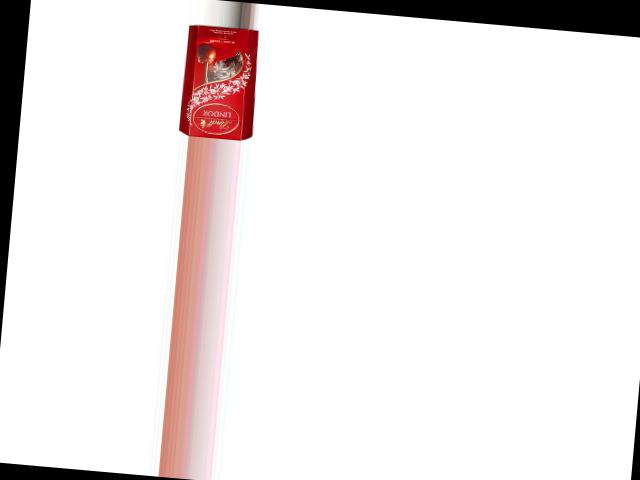chocolate: (173, 22, 263, 141)
